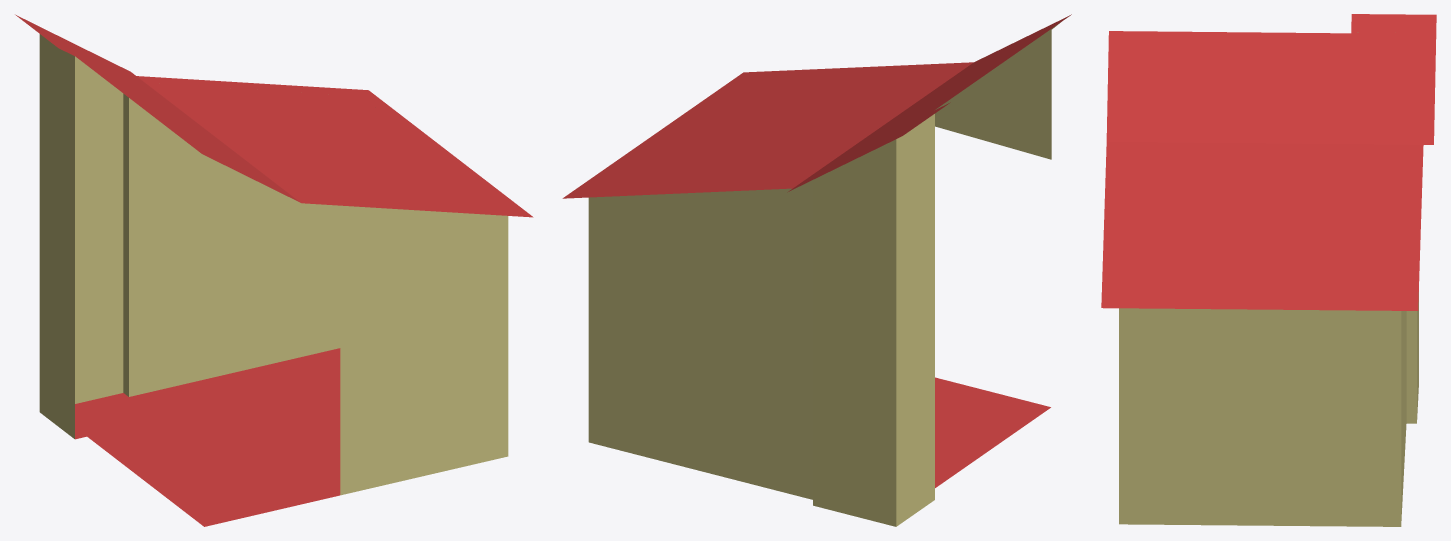
3 renders of one model, left to right at view 1: azimuth 30°, elevation 25°; view 2: azimuth 150°, elevation 25°; view 3: azimuth 270°, elevation 25°, orthographic. The views are drawn at different scales.
Size of the model in its own units: 10.6 by 9.63 by 11.55.
